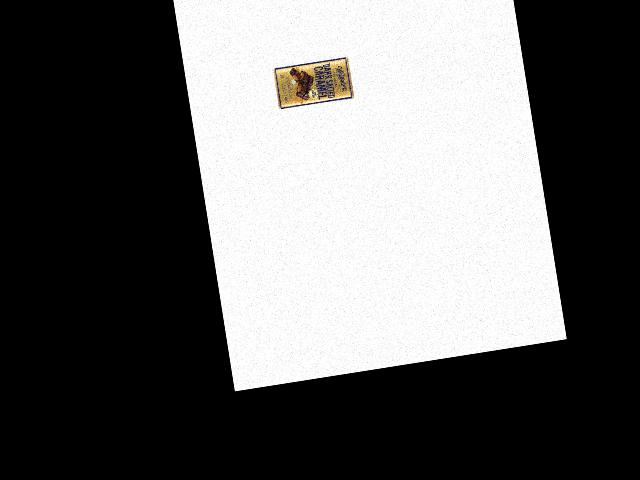chocolate: (270, 55, 354, 113)
